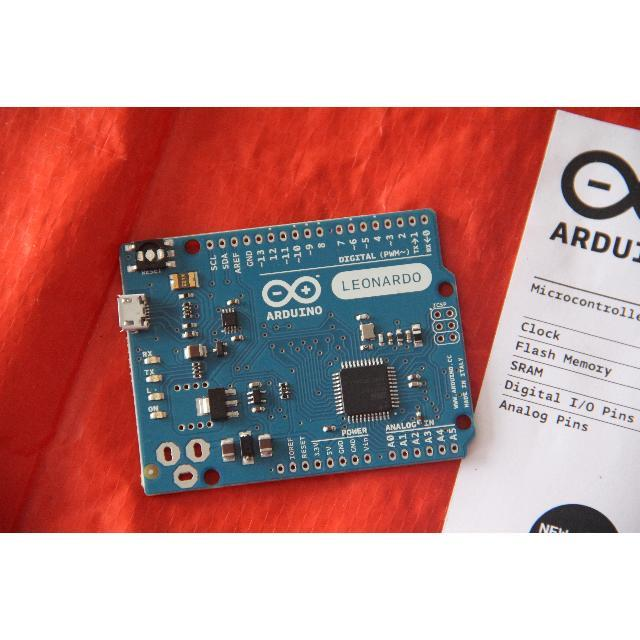Arduino-leonardo: (119, 210, 473, 495)
